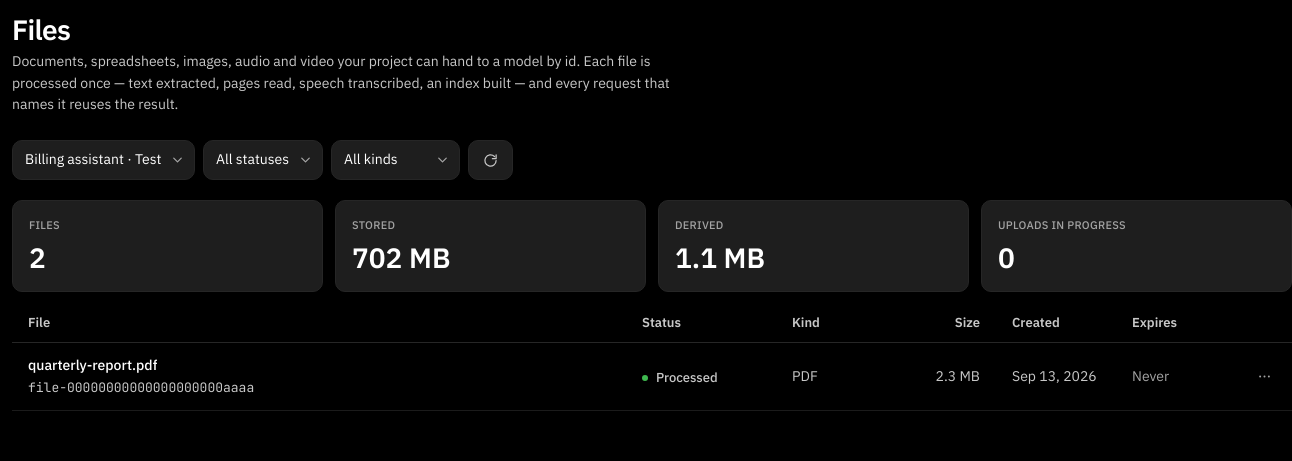
Test: uploading from the tab › offers no upload and no delete to an account that may only read
Expected: the button "quarterly-report.pdf" is shown, [28,355,157,377]
Step 1. Click the button named "Actions for quarterly-report.pdf" → [1264, 377], box [1248,361,1280,393]
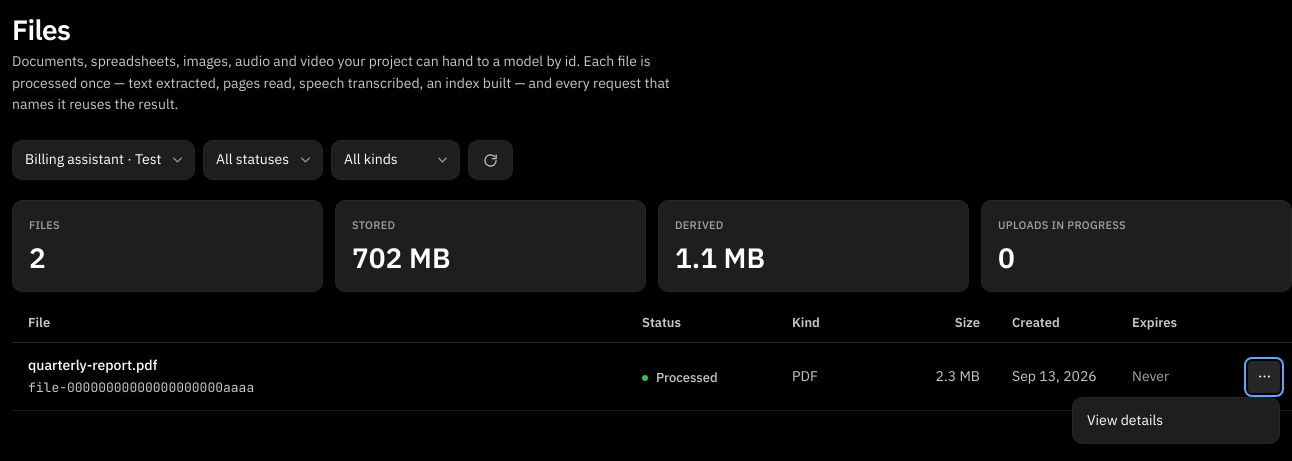
Result: the menu items read "View details", in this order at [1077,402,1275,439]
